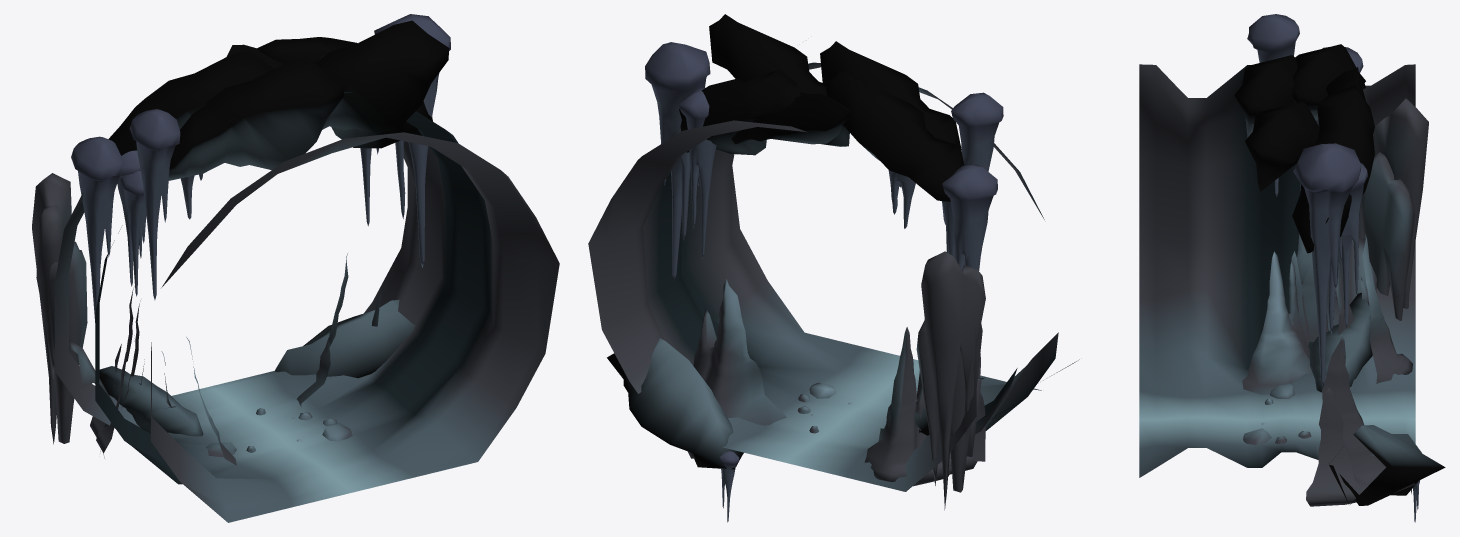
The model's file is Arctic_Tunnels_Straight_F.glb.
3 renders of one model, left to right at view 1: azimuth 30°, elevation 25°; view 2: azimuth 150°, elevation 25°; view 3: azimuth 270°, elevation 25°, orthographic. The views are drawn at different scales.
Parts seen in each view (by area): view 1: Arctic_Tunnels_Straight_F, Arctic_Tunnels_Icicle_Shadow_A06 (3), Arctic_Tunnels_Icicle_Shadow_A06, Arctic_Tunnels_Icicle_Shadow_A06 (4), Arctic_Tunnels_Icicle_Shadow_A02 (1), Arctic_Tunnels_Icicle_Shadow_A03; view 2: Arctic_Tunnels_Straight_F, Arctic_Tunnels_Icicle_Shadow_A06 (4), Arctic_Tunnels_Icicle_Shadow_A06 (3), Arctic_Tunnels_Icicle_Shadow_A06, Arctic_Tunnels_Icicle_Shadow_A06 (2), Arctic_Tunnels_Icicle_Shadow_A06 (1), Arctic_Tunnels_Icicle_Shadow_A01; view 3: Arctic_Tunnels_Straight_F, Arctic_Tunnels_Icicle_Shadow_A06 (4), Arctic_Tunnels_Icicle_Shadow_A06, Arctic_Tunnels_Icicle_Shadow_A06 (2).
Boxes of the visible parts, x1=… form: Arctic_Tunnels_Straight_F: x1=32, y1=20, x2=559, y2=522; Arctic_Tunnels_Icicle_Shadow_A06 (3): x1=71, y1=136, x2=124, y2=322; Arctic_Tunnels_Icicle_Shadow_A06: x1=129, y1=109, x2=180, y2=300; Arctic_Tunnels_Icicle_Shadow_A06 (4): x1=374, y1=14, x2=450, y2=267; Arctic_Tunnels_Icicle_Shadow_A02 (1): x1=120, y1=171, x2=146, y2=296; Arctic_Tunnels_Icicle_Shadow_A03: x1=117, y1=150, x2=142, y2=286; Arctic_Tunnels_Straight_F: x1=588, y1=14, x2=1079, y2=510; Arctic_Tunnels_Icicle_Shadow_A06 (4): x1=645, y1=42, x2=710, y2=281; Arctic_Tunnels_Icicle_Shadow_A06 (3): x1=942, y1=164, x2=997, y2=270; Arctic_Tunnels_Icicle_Shadow_A06: x1=951, y1=92, x2=1003, y2=171; Arctic_Tunnels_Icicle_Shadow_A06 (2): x1=679, y1=87, x2=716, y2=258; Arctic_Tunnels_Icicle_Shadow_A06 (1): x1=888, y1=170, x2=915, y2=228; Arctic_Tunnels_Icicle_Shadow_A01: x1=719, y1=451, x2=739, y2=522; Arctic_Tunnels_Straight_F: x1=1139, y1=44, x2=1445, y2=506; Arctic_Tunnels_Icicle_Shadow_A06 (4): x1=1293, y1=143, x2=1360, y2=388; Arctic_Tunnels_Icicle_Shadow_A06: x1=1247, y1=14, x2=1299, y2=197; Arctic_Tunnels_Icicle_Shadow_A06 (2): x1=1339, y1=163, x2=1367, y2=327.
Size of the model in its own units: 9.05 by 9.91 by 6.21.
